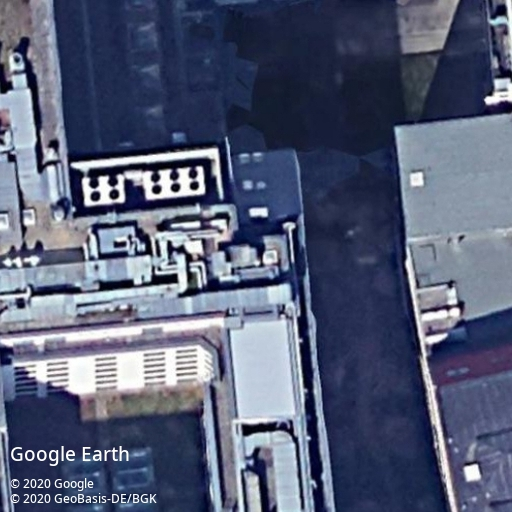Chiller: (141, 166, 206, 201), (81, 174, 126, 206)
